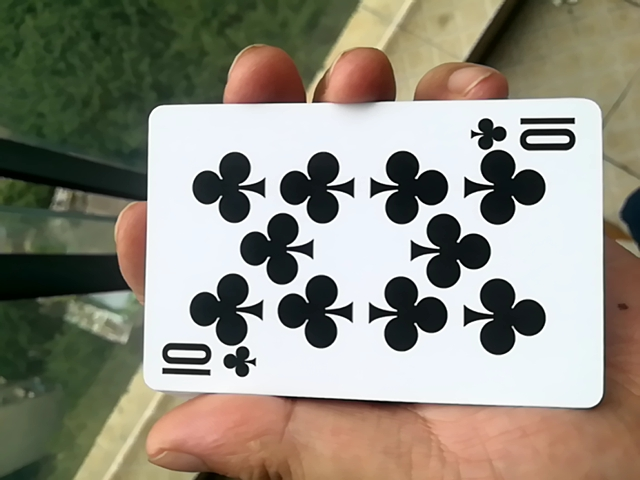mh 10: (130, 110, 600, 419)
